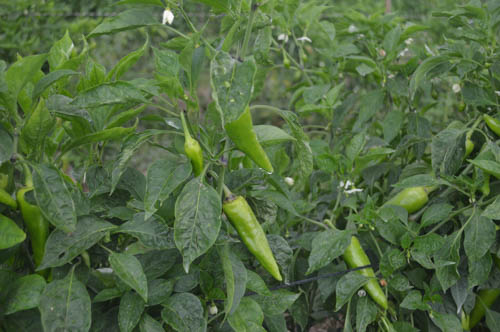ChiliPepper: (227, 196, 281, 281), (342, 239, 388, 304), (229, 109, 274, 171), (18, 191, 49, 262), (381, 186, 425, 212), (186, 144, 207, 172)
